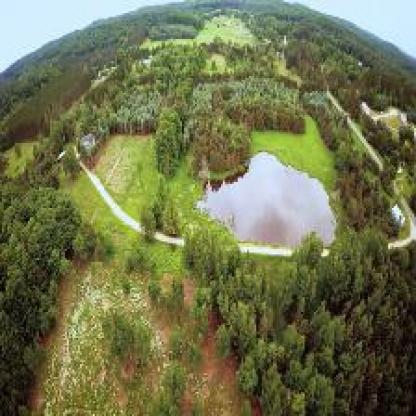other: (185, 156, 352, 240)
